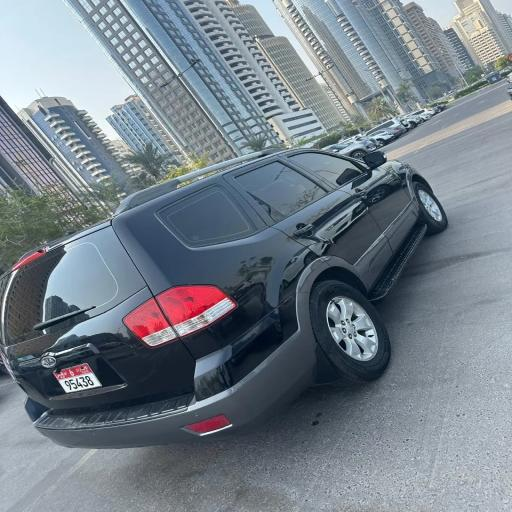license-plates: (53, 363, 102, 393)
